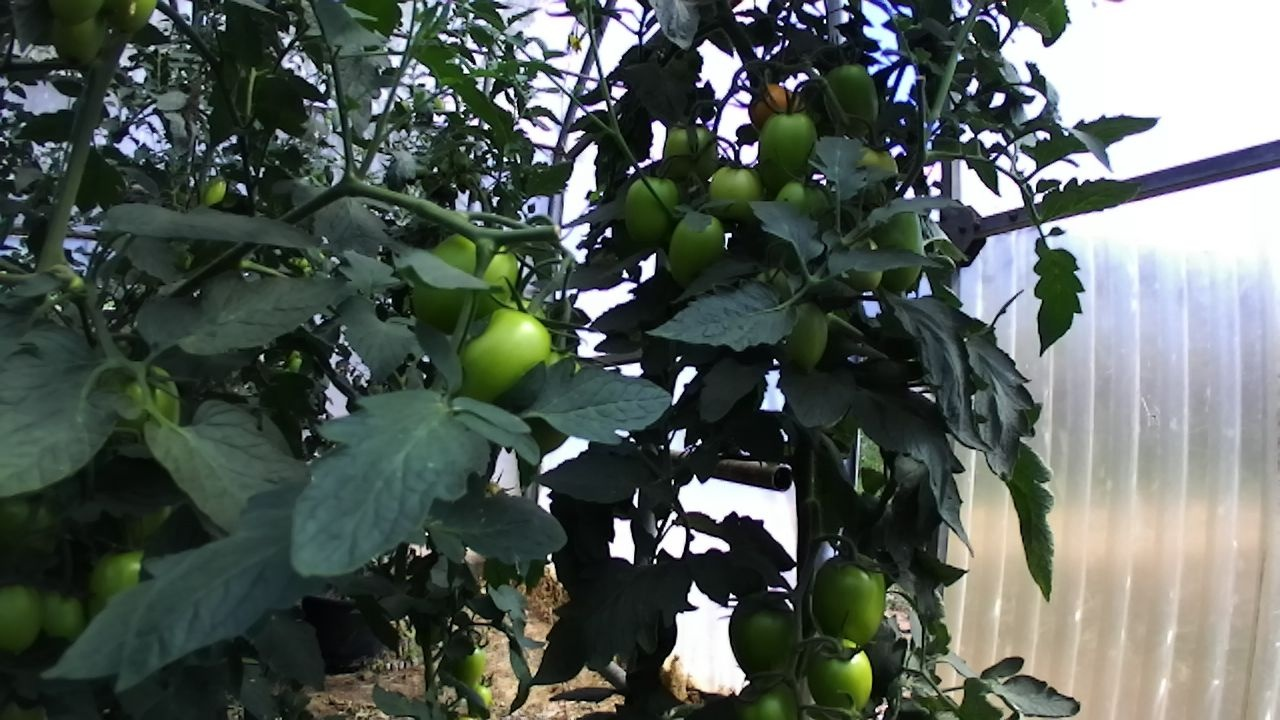tomato: (430, 288, 592, 430), (389, 213, 544, 350), (804, 536, 901, 670), (716, 583, 814, 694), (856, 189, 941, 303), (745, 104, 838, 202), (796, 620, 886, 720), (653, 202, 742, 297), (611, 166, 692, 261), (768, 298, 844, 388), (815, 55, 890, 146), (26, 580, 105, 664), (0, 564, 60, 669), (651, 120, 731, 195), (700, 156, 772, 229), (722, 665, 813, 720), (742, 73, 814, 139), (438, 632, 498, 707), (194, 167, 238, 219)
